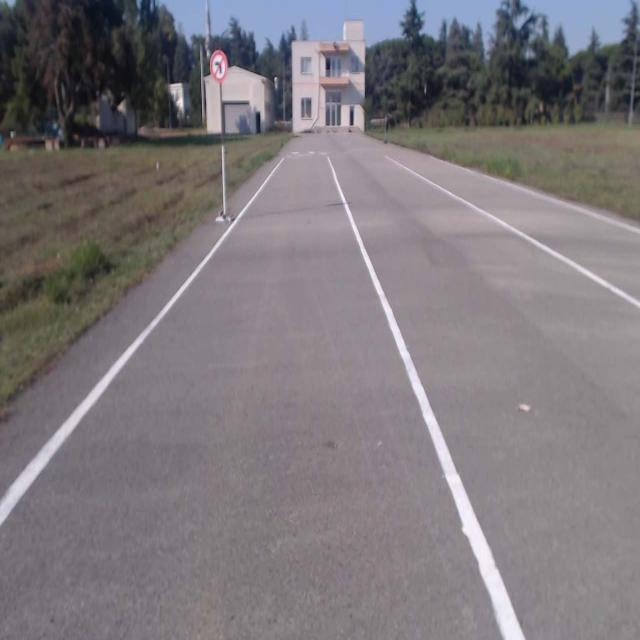soladonulmez: (210, 50, 228, 82)
